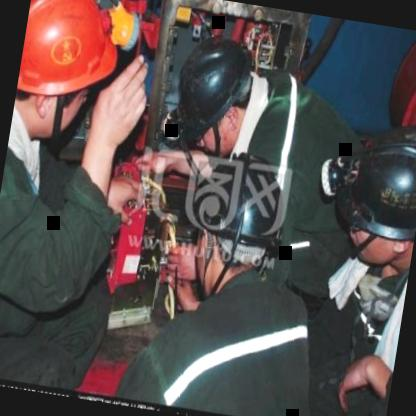helmet: (8, 0, 128, 153), (180, 152, 293, 306), (319, 113, 416, 272), (164, 30, 270, 160)
